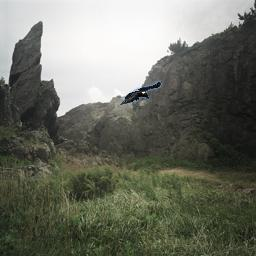Crow: (119, 80, 162, 105)
